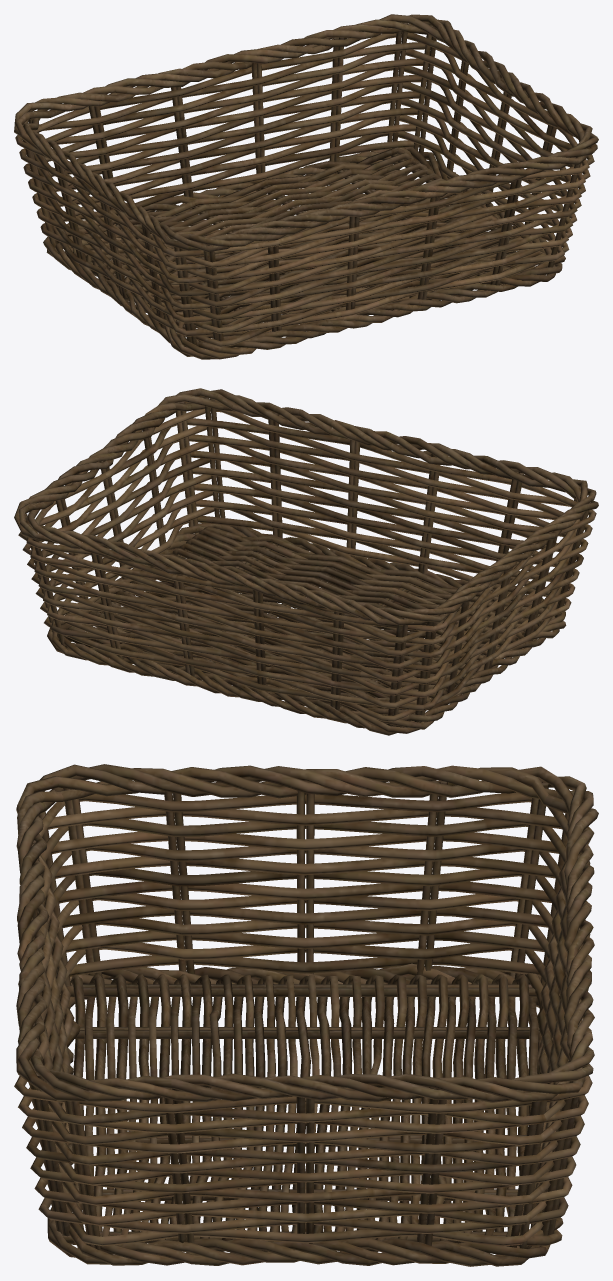
The model's file is wicker_basket_01.glb.
The picture shows the model from 3 angles, top to bottom: view 1: azimuth 30°, elevation 25°; view 2: azimuth 150°, elevation 25°; view 3: azimuth 270°, elevation 25°; orthographic projection. The views are drawn at different scales.
Parts seen in each view (by area): view 1: wicker_basket_01; view 2: wicker_basket_01; view 3: wicker_basket_01.
Boxes of the visible parts, x1,y1,x2,y2 form: wicker_basket_01: (14,14,598,359); wicker_basket_01: (14,388,598,735); wicker_basket_01: (14,764,598,1266).
Size of the model in its own units: 0.3832 by 0.1174 by 0.295.
1 material, 1 textured.
